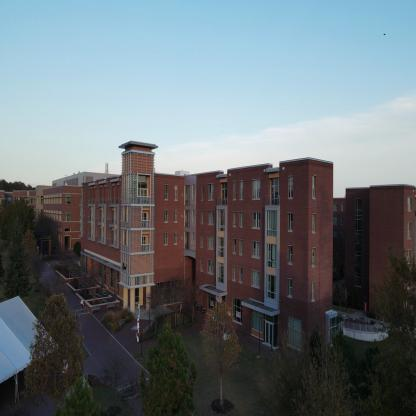Wolf Ridge: (76, 131, 196, 327), (338, 162, 416, 327)
